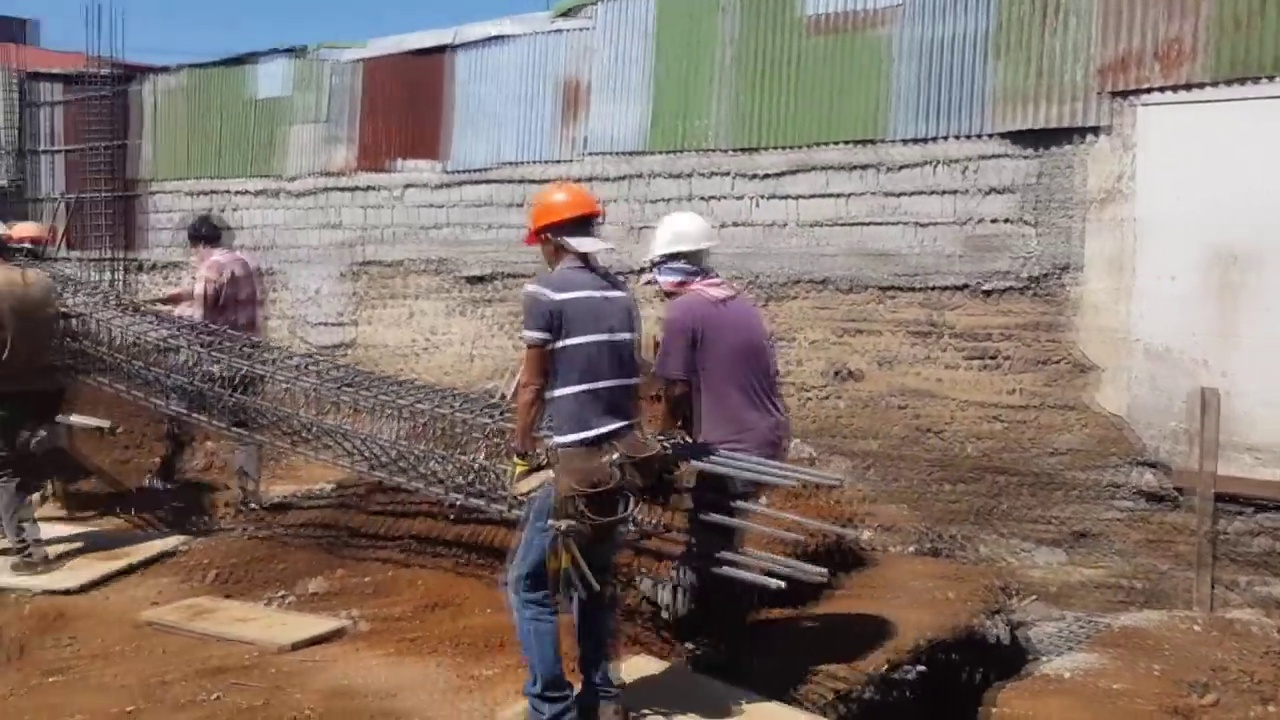helmet: (519, 185, 599, 248), (640, 207, 718, 261), (0, 217, 43, 252)
helmet-off: (177, 213, 222, 269)
helmet-on: (518, 180, 614, 278), (639, 208, 718, 303)
person: (497, 187, 651, 720), (636, 209, 788, 668), (142, 212, 267, 505), (0, 213, 65, 581)
